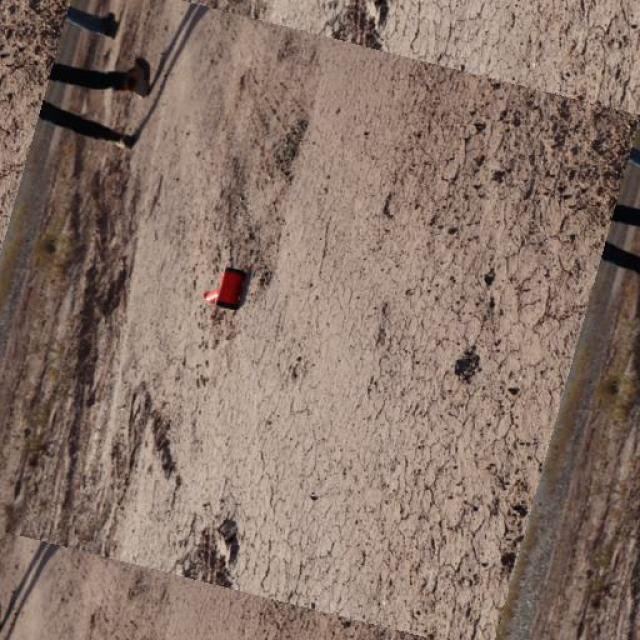mallet: (202, 265, 248, 311)
